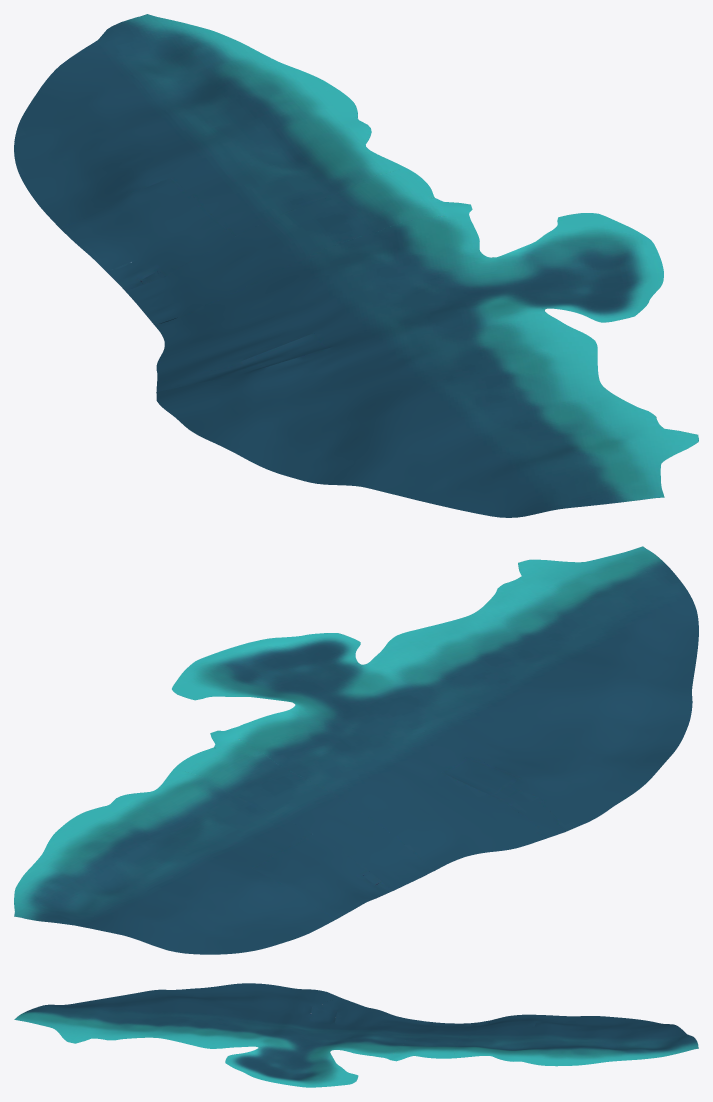
The model's file is Underwater-land-3.glb.
3 renders of one model, top to bottom at view 1: azimuth 30°, elevation 25°; view 2: azimuth 150°, elevation 25°; view 3: azimuth 270°, elevation 25°, orthographic. The views are drawn at different scales.
Parts seen in each view (by area): view 1: Retopo_Sea Land 2.001; view 2: Retopo_Sea Land 2.001; view 3: Retopo_Sea Land 2.001.
Part boxes in pixels (left/top/right/bottom): Retopo_Sea Land 2.001: left=14, top=14, right=698, bottom=517; Retopo_Sea Land 2.001: left=14, top=546, right=698, bottom=954; Retopo_Sea Land 2.001: left=14, top=983, right=698, bottom=1087.
Size of the model in its own units: 7733 by 1063 by 17131.
1 material, 1 textured.
